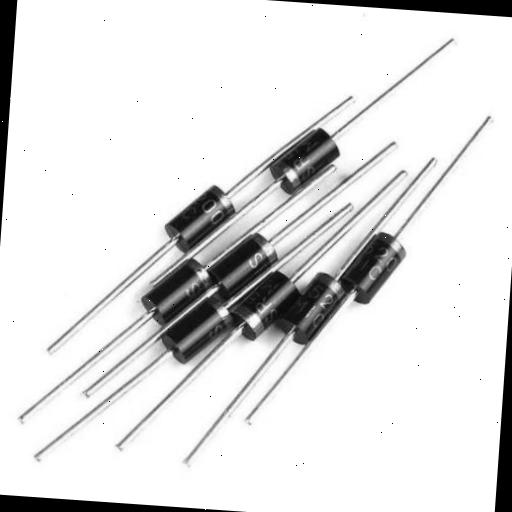DIODE: (113, 155, 255, 265), (337, 224, 425, 340), (132, 230, 230, 334), (150, 296, 252, 382), (238, 262, 334, 350), (280, 269, 356, 365), (270, 128, 346, 210), (212, 227, 282, 300)
